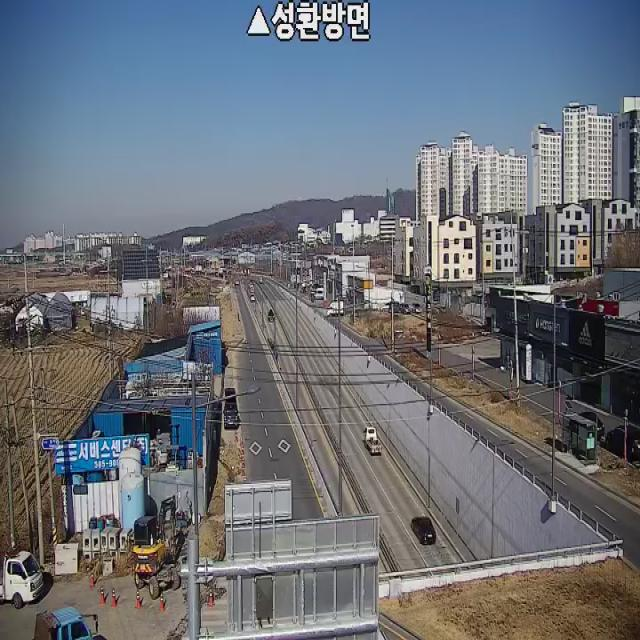Car: (605, 424, 640, 460), (573, 411, 604, 441), (411, 517, 436, 545), (268, 309, 275, 322)
Truck: (124, 486, 188, 604), (0, 547, 44, 609), (34, 607, 99, 640), (363, 426, 382, 456), (223, 388, 237, 428), (327, 300, 343, 317)
